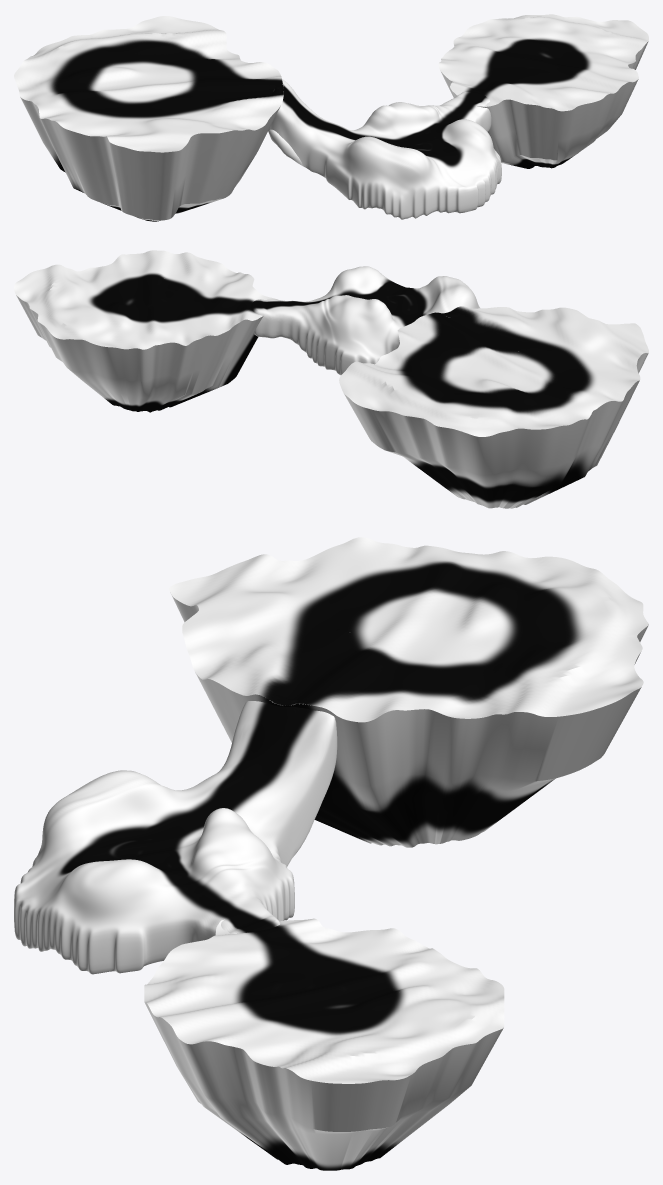
The picture shows the model from 3 angles, top to bottom: view 1: azimuth 30°, elevation 25°; view 2: azimuth 150°, elevation 25°; view 3: azimuth 270°, elevation 25°; orthographic projection. The views are drawn at different scales.
Visible parts, largest first — view 1: 平面.006, 平面.005, 平面.003; view 2: 平面.006, 平面.005, 平面.003; view 3: 平面.006, 平面.005, 平面.003.
Boxes of the visible parts, bbox=[...] form: 平面.006: bbox=[14, 16, 283, 221]; 平面.005: bbox=[438, 14, 648, 168]; 平面.003: bbox=[268, 79, 501, 219]; 平面.006: bbox=[339, 306, 648, 508]; 平面.005: bbox=[14, 250, 278, 412]; 平面.003: bbox=[250, 266, 480, 375]; 平面.006: bbox=[169, 537, 648, 847]; 平面.005: bbox=[144, 918, 504, 1170]; 平面.003: bbox=[14, 695, 337, 974].
Bounding box in the file's own units: 27059 × 6432 × 15410.
